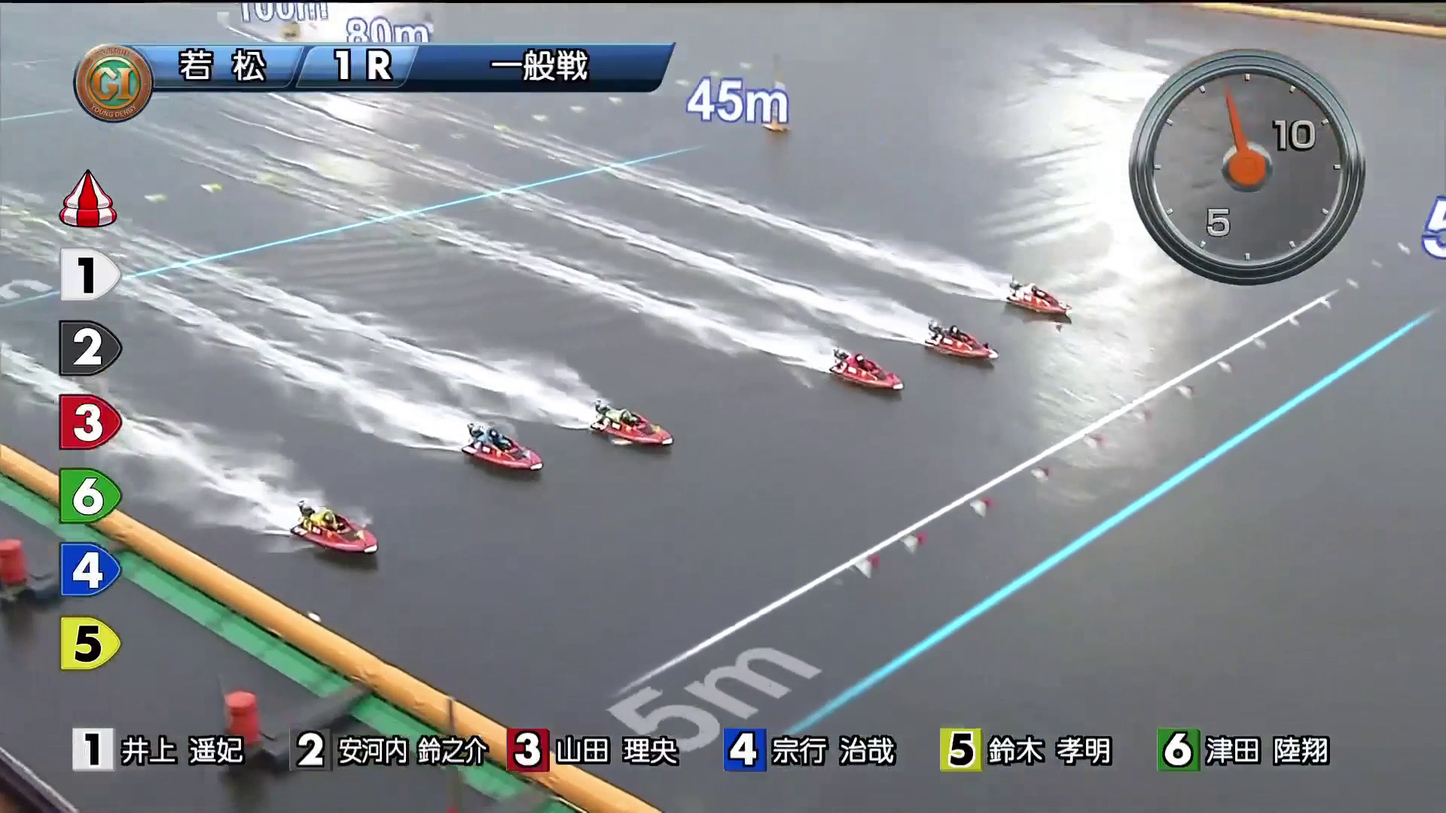１号艇: (986, 267, 1053, 314)
２号艇: (930, 315, 992, 353)
３号艇: (834, 344, 889, 386)
４号艇: (608, 404, 672, 447)
５号艇: (481, 448, 549, 486)
６号艇: (341, 543, 407, 589)
